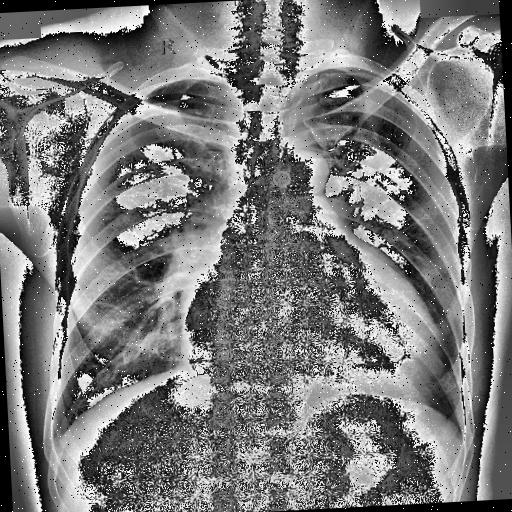3- Cardiomegaly: (173, 256, 452, 418), (176, 273, 448, 410), (178, 284, 440, 418)
